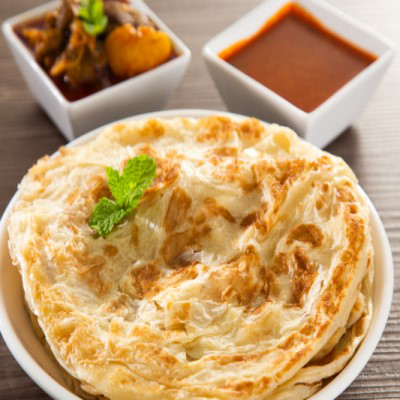Prata: (17, 120, 376, 399)
